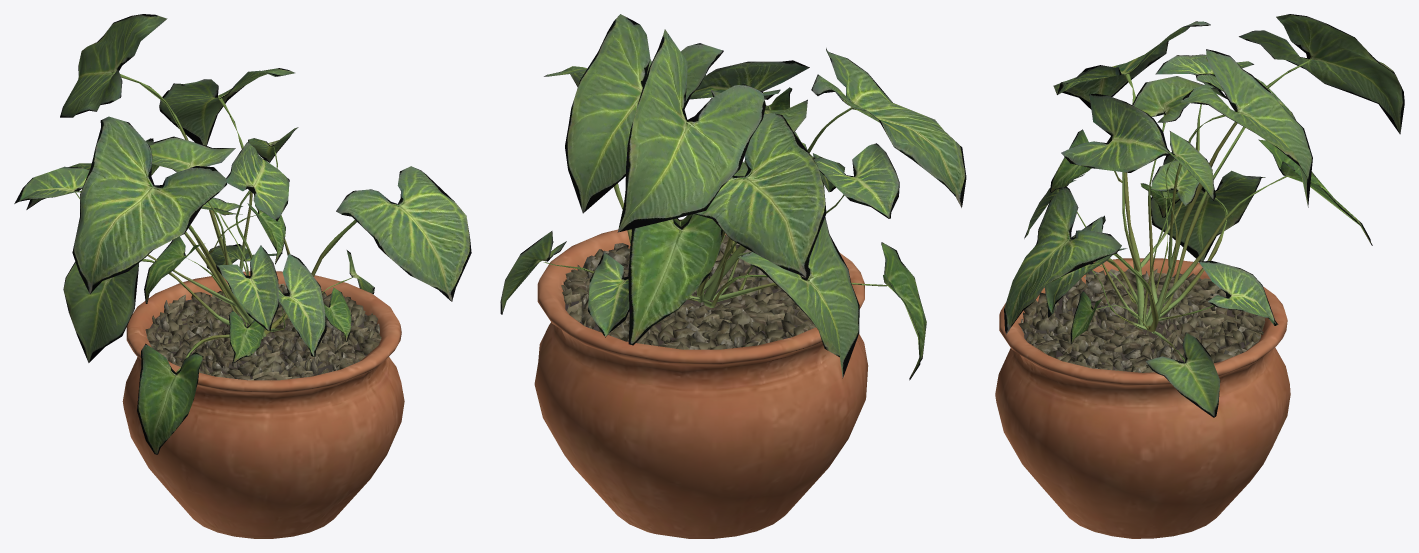
File: potted_plant_02.low.glb
The picture shows the model from 3 angles, left to right: view 1: azimuth 30°, elevation 25°; view 2: azimuth 150°, elevation 25°; view 3: azimuth 270°, elevation 25°; orthographic projection. The views are drawn at different scales.
Parts seen in each view (by area): view 1: leaves, pot; view 2: leaves, pot; view 3: pot, leaves.
Boxes of the visible parts, box(x1,y1,x2,y2) form: leaves: box(14, 14, 471, 454); pot: box(122, 271, 404, 538); leaves: box(500, 14, 966, 380); pot: box(534, 219, 868, 538); pot: box(995, 258, 1290, 538); leaves: box(1004, 14, 1404, 417).
Bounding box in the file's own units: 0.7007 × 0.8378 × 0.6574.
Materials: 2 (2 with a texture image).
